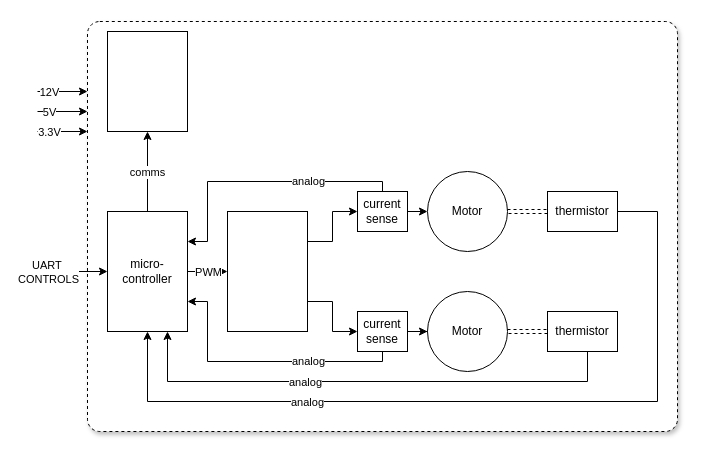
The diagram is 701 pixels wide and 456 high, and some of its shapes have lost their labels. Each missing label, with the centre of its shape:
H bridge motor driver: [267,271]
interia- measuring unit (IMU) LSM6DS032: [147,81]
